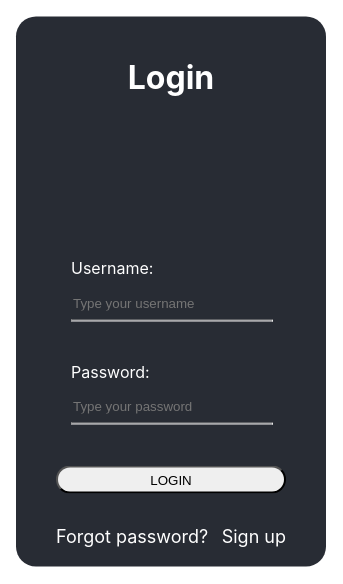
Scenario: UserLoginForm component › shows error if username is empty
The width and height of the screenshot is (343, 584).
Click the button "LOGIN".
click(171, 479)  # box [56, 465, 286, 494]
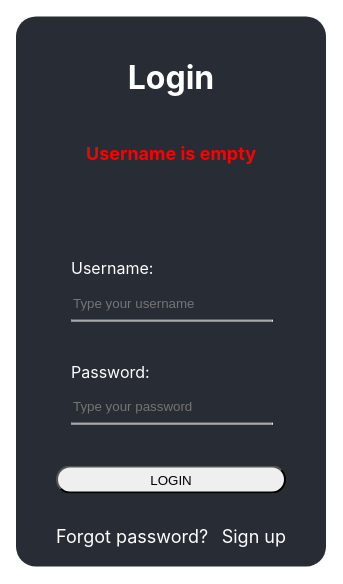
Check: the text "Username is empty" is shown, box [86, 142, 256, 163]
